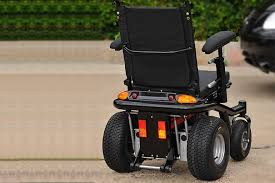wheelchair: (100, 4, 257, 178)
